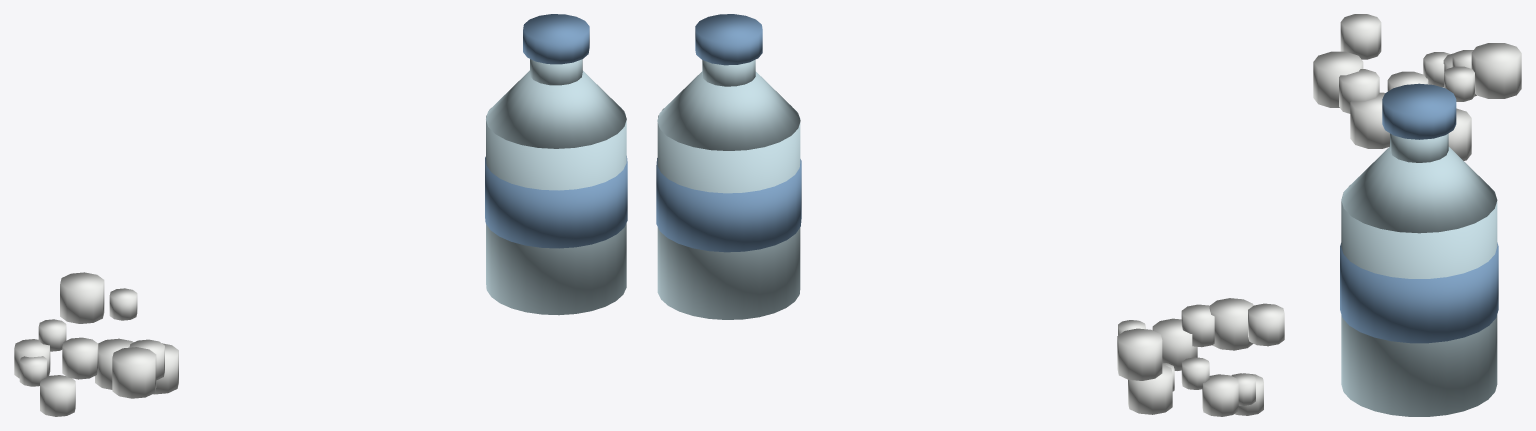
Rendered from products_plastics.glb.
The picture shows the model from 3 angles, left to right: view 1: azimuth 30°, elevation 25°; view 2: azimuth 150°, elevation 25°; view 3: azimuth 270°, elevation 25°; orthographic projection. The views are drawn at different scales.
Parts seen in each view (by area): view 1: plastic_bottle, resin_pellets, plastic_bottle_label, plastic_bottle_shoulder, plastic_bottle_cap, plastic_bottle_neck; view 2: plastic_bottle, resin_pellets, plastic_bottle_label, plastic_bottle_shoulder, plastic_bottle_cap, plastic_bottle_neck; view 3: plastic_bottle, resin_pellets, plastic_bottle_label, plastic_bottle_shoulder, plastic_bottle_cap, plastic_bottle_neck.
Part boxes in pixels (x1=…): plastic_bottle: x1=486, y1=107, x2=626, y2=315; resin_pellets: x1=14, y1=272, x2=178, y2=416; plastic_bottle_label: x1=485, y1=156, x2=627, y2=248; plastic_bottle_shoulder: x1=486, y1=70, x2=626, y2=148; plastic_bottle_cap: x1=523, y1=14, x2=589, y2=64; plastic_bottle_neck: x1=530, y1=59, x2=582, y2=85; plastic_bottle: x1=657, y1=108, x2=800, y2=319; resin_pellets: x1=1117, y1=298, x2=1284, y2=416; plastic_bottle_label: x1=656, y1=158, x2=801, y2=252; plastic_bottle_shoulder: x1=657, y1=71, x2=800, y2=150; plastic_bottle_cap: x1=695, y1=14, x2=762, y2=65; plastic_bottle_neck: x1=702, y1=59, x2=755, y2=86; plastic_bottle: x1=1341, y1=185, x2=1497, y2=416; resin_pellets: x1=1313, y1=14, x2=1521, y2=160; plastic_bottle_label: x1=1340, y1=242, x2=1498, y2=343; plastic_bottle_shoulder: x1=1341, y1=147, x2=1497, y2=233; plastic_bottle_cap: x1=1382, y1=83, x2=1456, y2=139; plastic_bottle_neck: x1=1390, y1=133, x2=1448, y2=162.
Bounding box in the file's own units: 1.92 × 0.8062 × 0.533.
